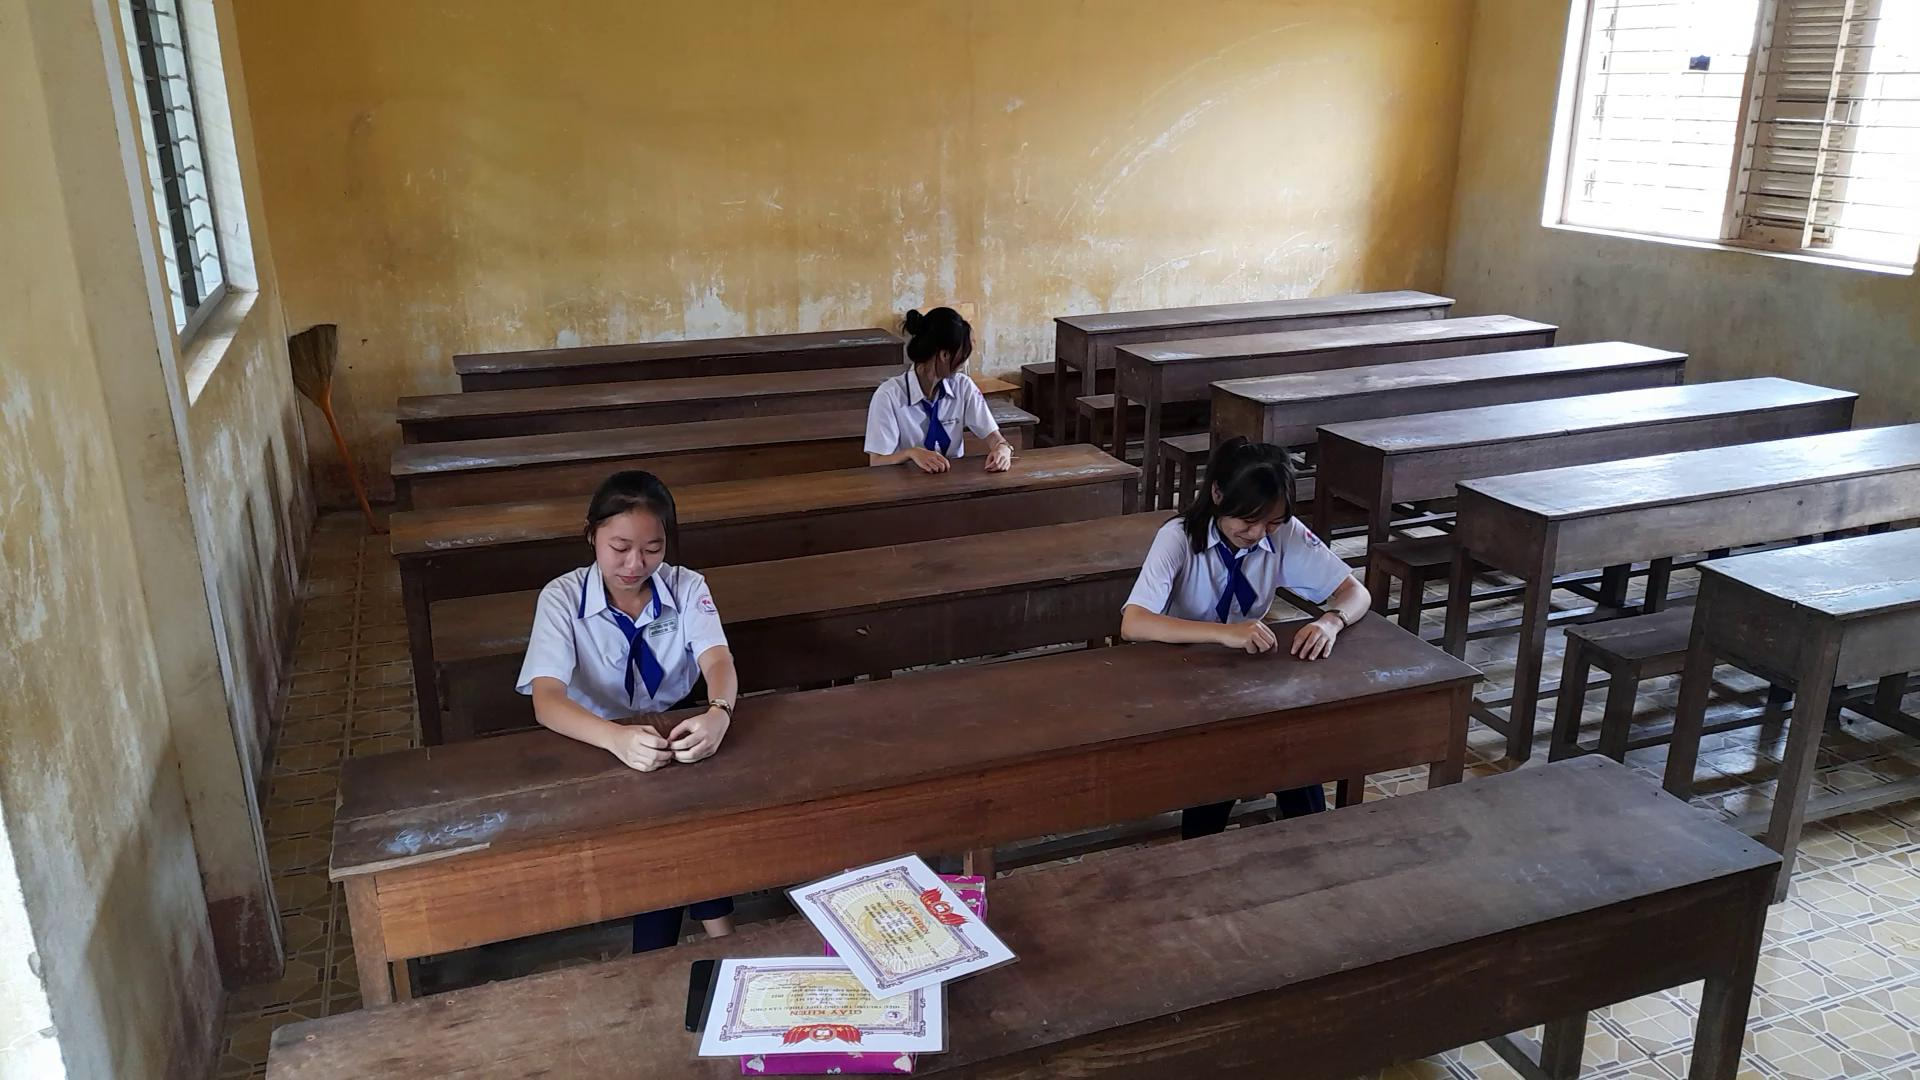Look Around: (872, 291, 988, 397)
Normal: (506, 455, 765, 775), (1112, 421, 1377, 684)
